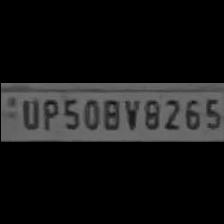0: (79, 96, 99, 130)
2: (160, 96, 180, 130)
5: (57, 94, 78, 130), (201, 94, 221, 130)
6: (181, 96, 201, 130)
8: (140, 96, 160, 130)
B: (100, 96, 120, 130)
P: (39, 96, 59, 130)
U: (16, 96, 38, 130)
V: (120, 96, 140, 130)
